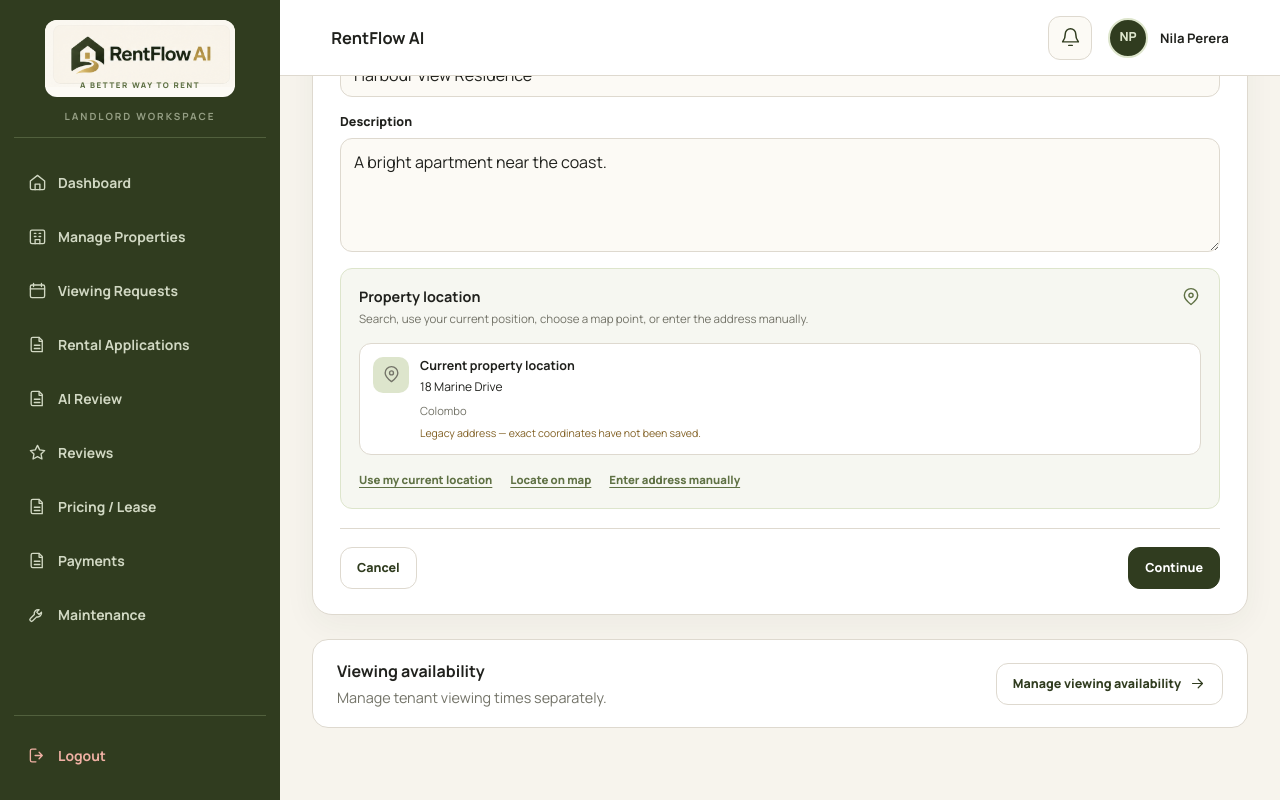
it: property form wizard › replaces the full edit schedule with a link to this property’s dedicated settings
(page scrolled)
Expected: the field labelled "Property title" holds "Harbour View Residence", [340,52,1220,96]
Expected: the field labelled "Slot duration" is not shown
Click the link "Manage viewing availability" at [1109, 684], box [996,663,1223,705]
(page scrolled)
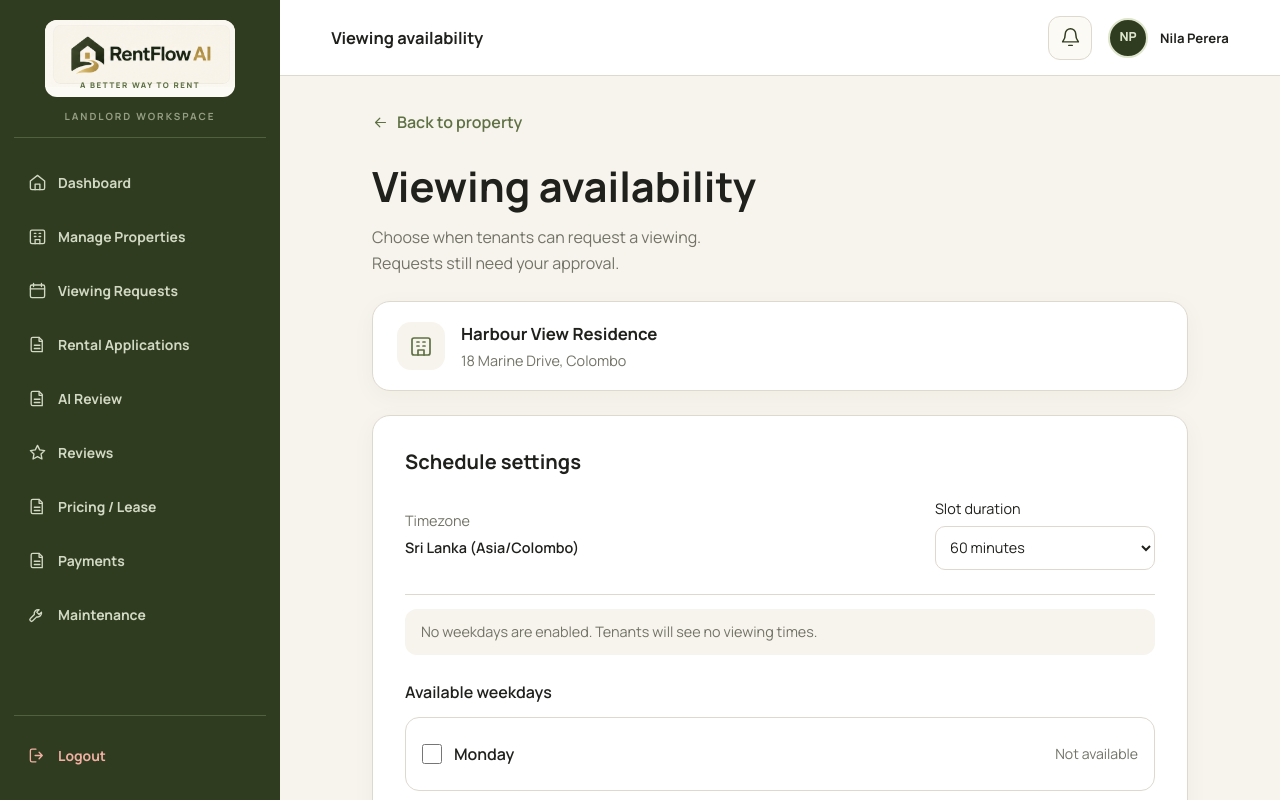
Result: the checkbox named "Monday enabled" is not checked at [422,744,442,764]
